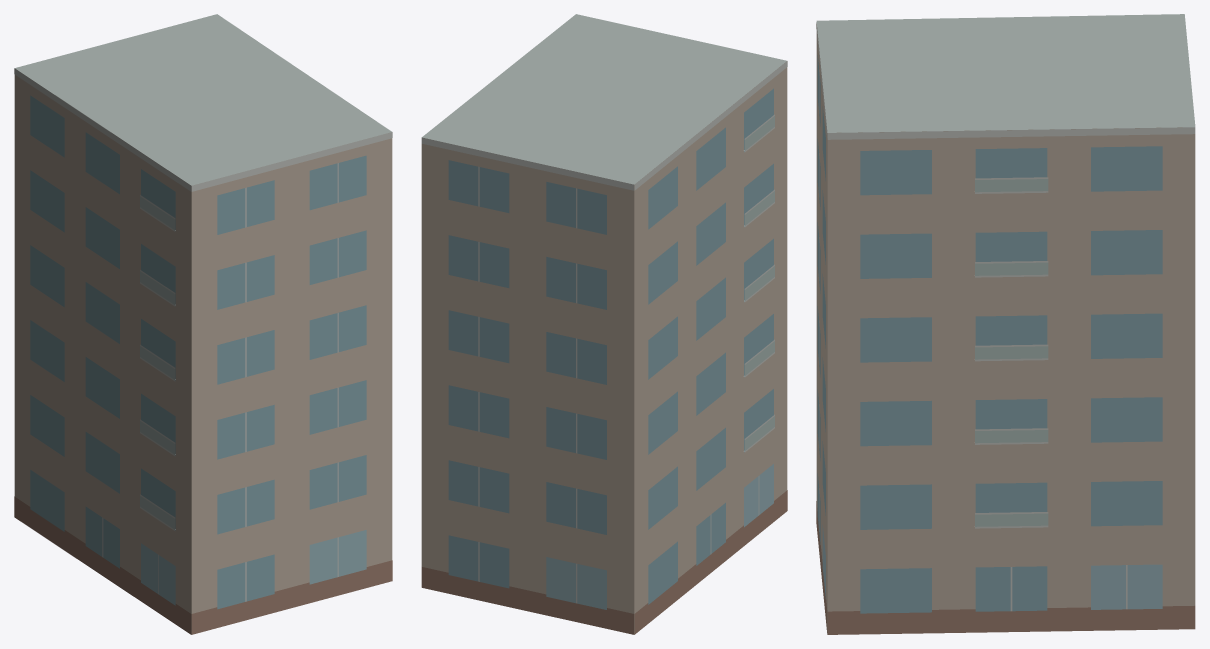
File: survey-upis-32748916.glb
3 views of the same model, side by side, from view 1: azimuth 30°, elevation 25°; view 2: azimuth 150°, elevation 25°; view 3: azimuth 270°, elevation 25° (orthographic). The views are drawn at different scales.
Visible parts, largest first — view 1: survey-upis-32748916.tmp; view 2: survey-upis-32748916.tmp; view 3: survey-upis-32748916.tmp.
Part boxes in pixels (<box>): survey-upis-32748916.tmp: <box>14,14,392,634</box>; survey-upis-32748916.tmp: <box>421,14,787,634</box>; survey-upis-32748916.tmp: <box>816,14,1195,634</box>.
Size of the model in its own units: 8.98 by 17.65 by 12.09.
